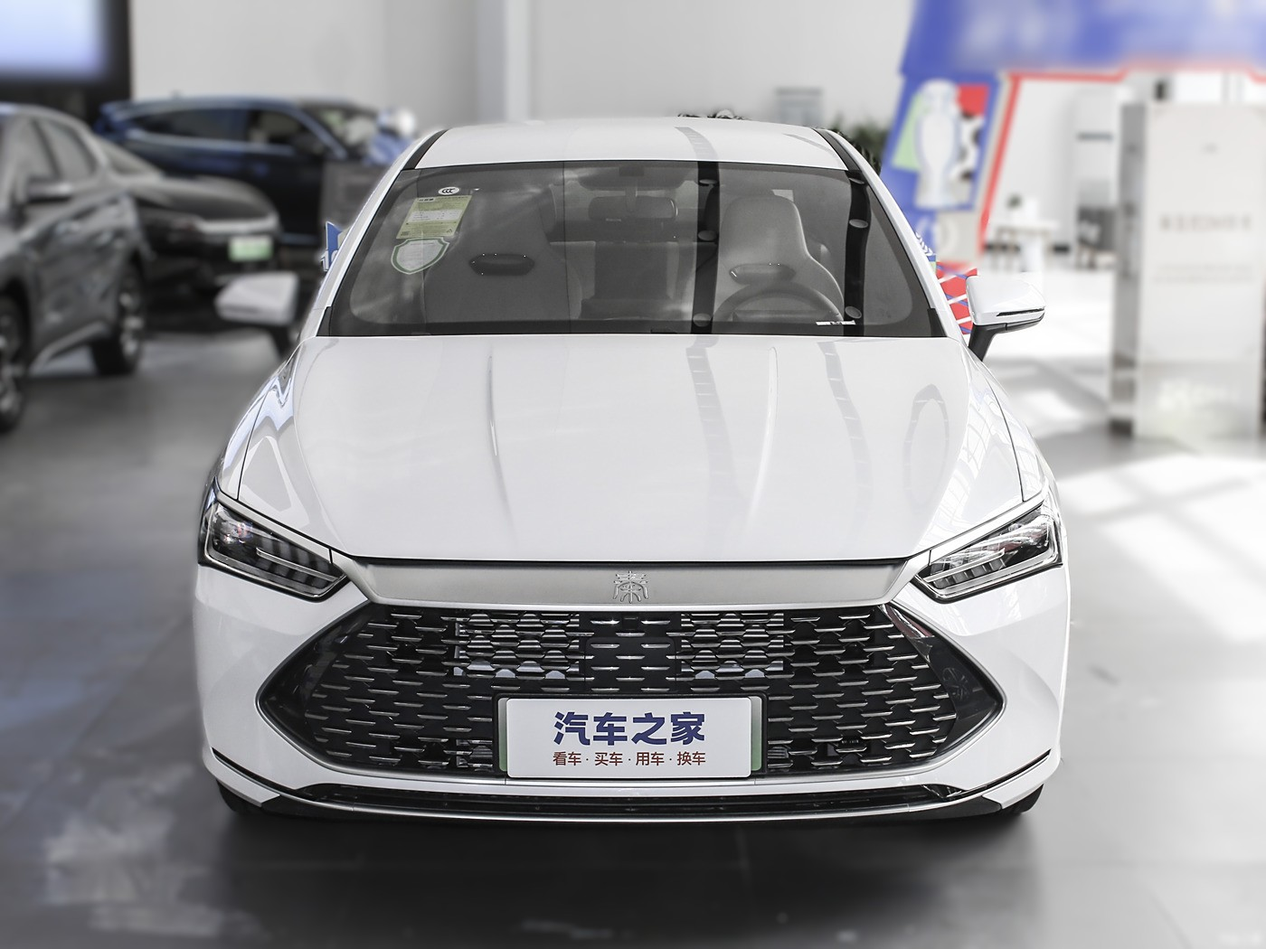BYD Qin: (615, 571, 647, 602)
